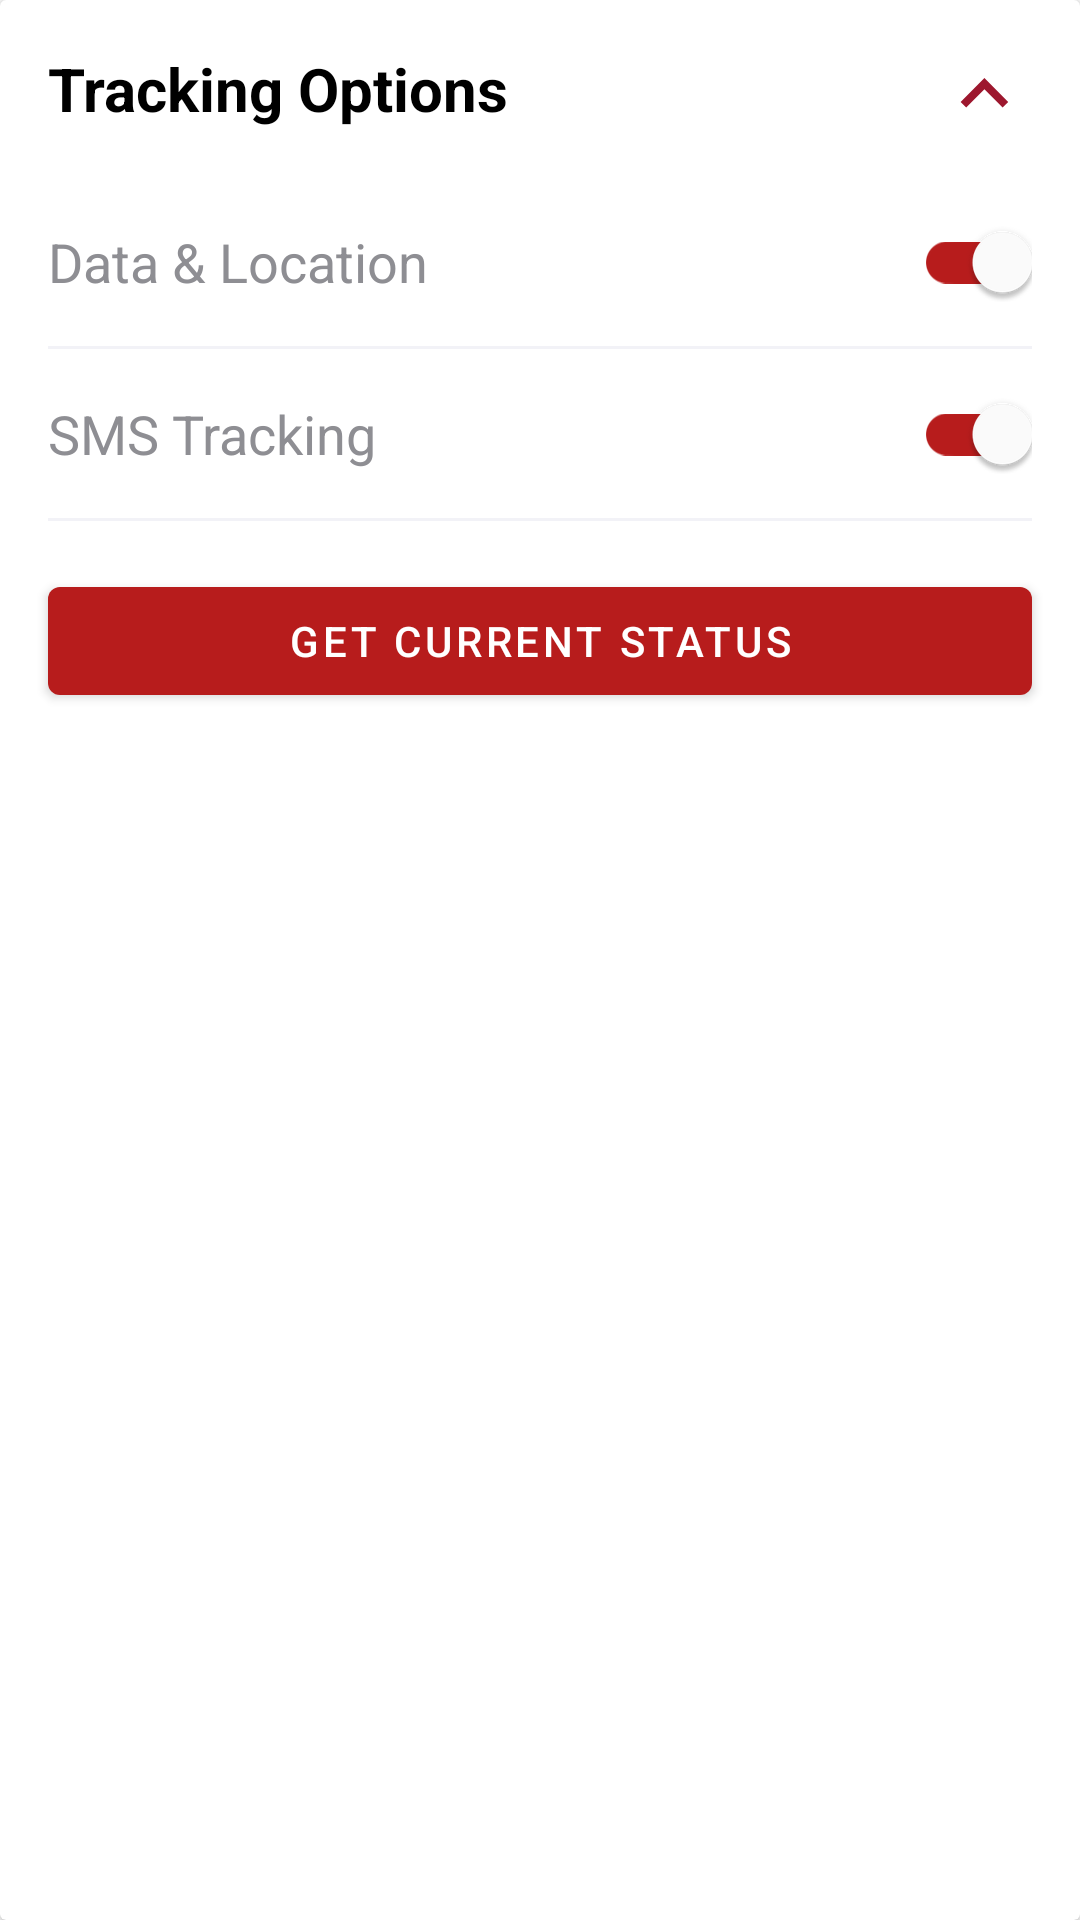

Icons on this 1080px×1920px Android screen, each with the point to tap as point (x, y):
arrow expanded: point (984, 93)
